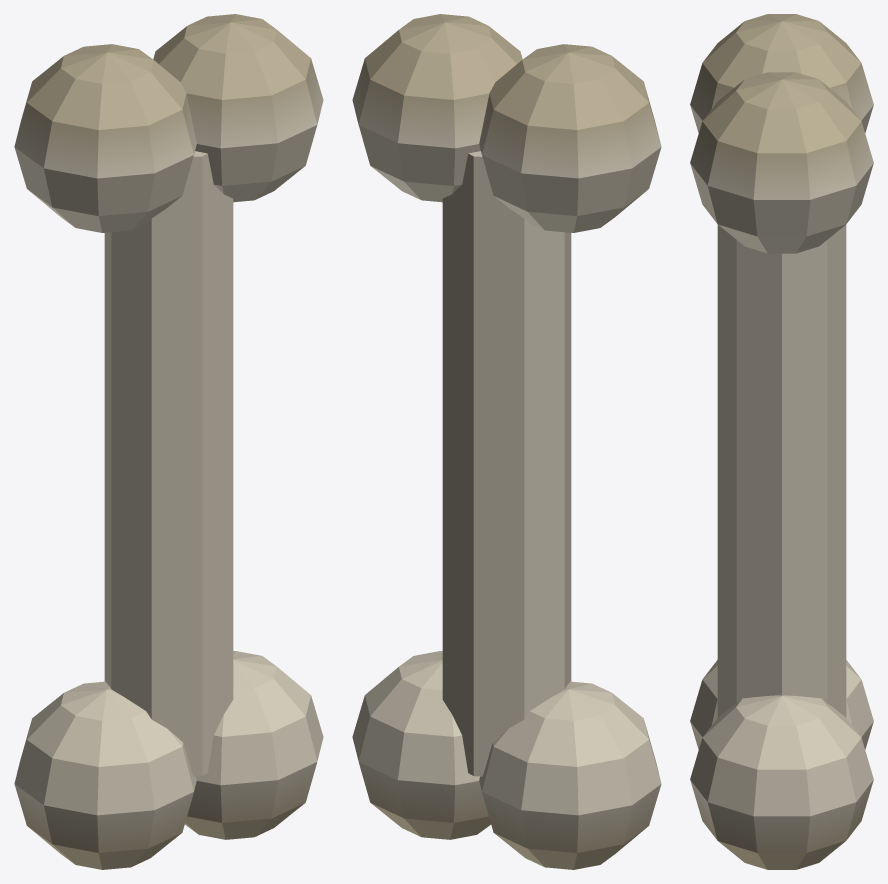
The model's file is Bone.fbx.
3 views of the same model, side by side, from view 1: azimuth 30°, elevation 25°; view 2: azimuth 150°, elevation 25°; view 3: azimuth 270°, elevation 25° (orthographic). The views are drawn at different scales.
Parts seen in each view (by area): view 1: Bone; view 2: Bone; view 3: Bone.
Boxes of the visible parts, <box> form: Bone: <box>14,14,323,869</box>; Bone: <box>352,14,661,869</box>; Bone: <box>690,14,873,869</box>.
Size of the model in its own units: 0.3402 by 0.94 by 0.2.
